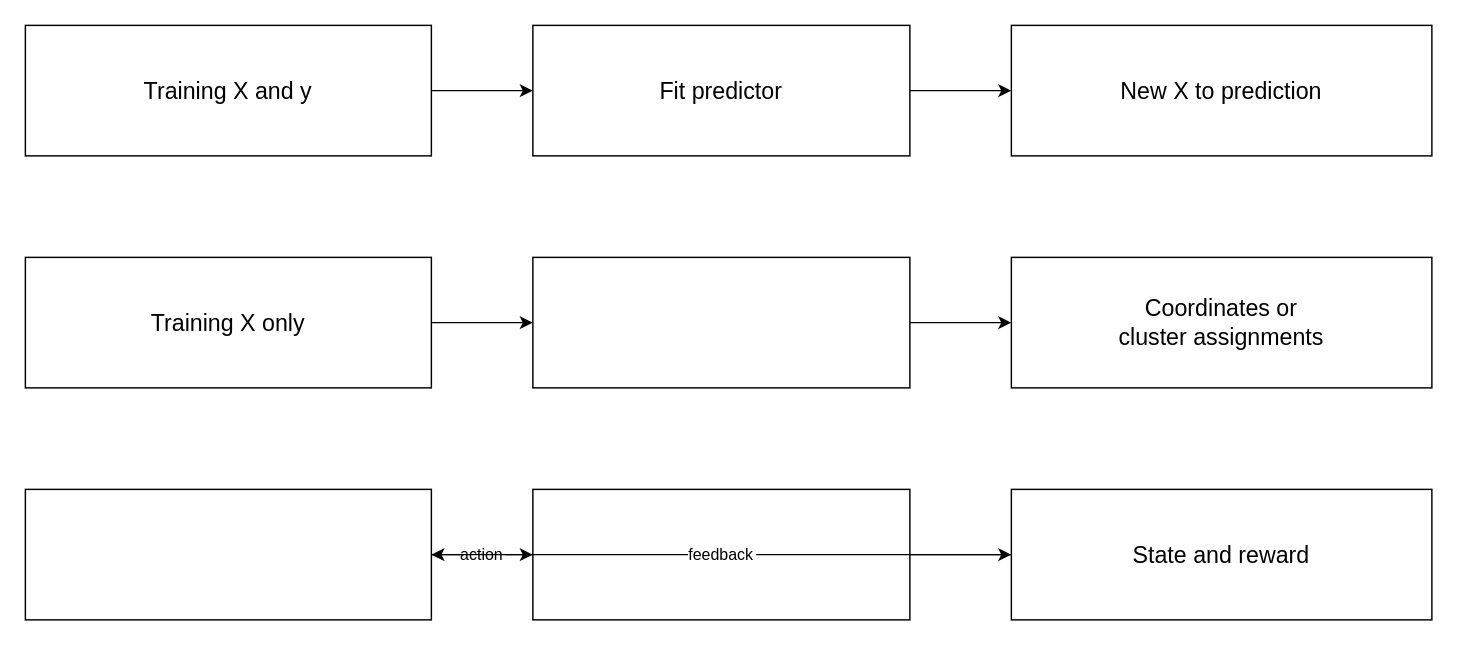
The diagram is 1457 pixels wide and 645 high, and some of its shapes have lost their labels. Here are the shapes that lost their labels. From the top down, the box of each, then its label:
(531, 256, 910, 388): Fit representation or clustering
(24, 488, 431, 620): Agent and policy
(531, 488, 910, 620): Environment
